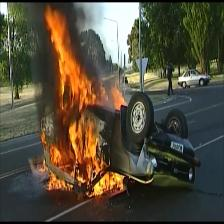fire: (39, 6, 125, 198), (112, 87, 131, 111), (134, 147, 134, 149)
